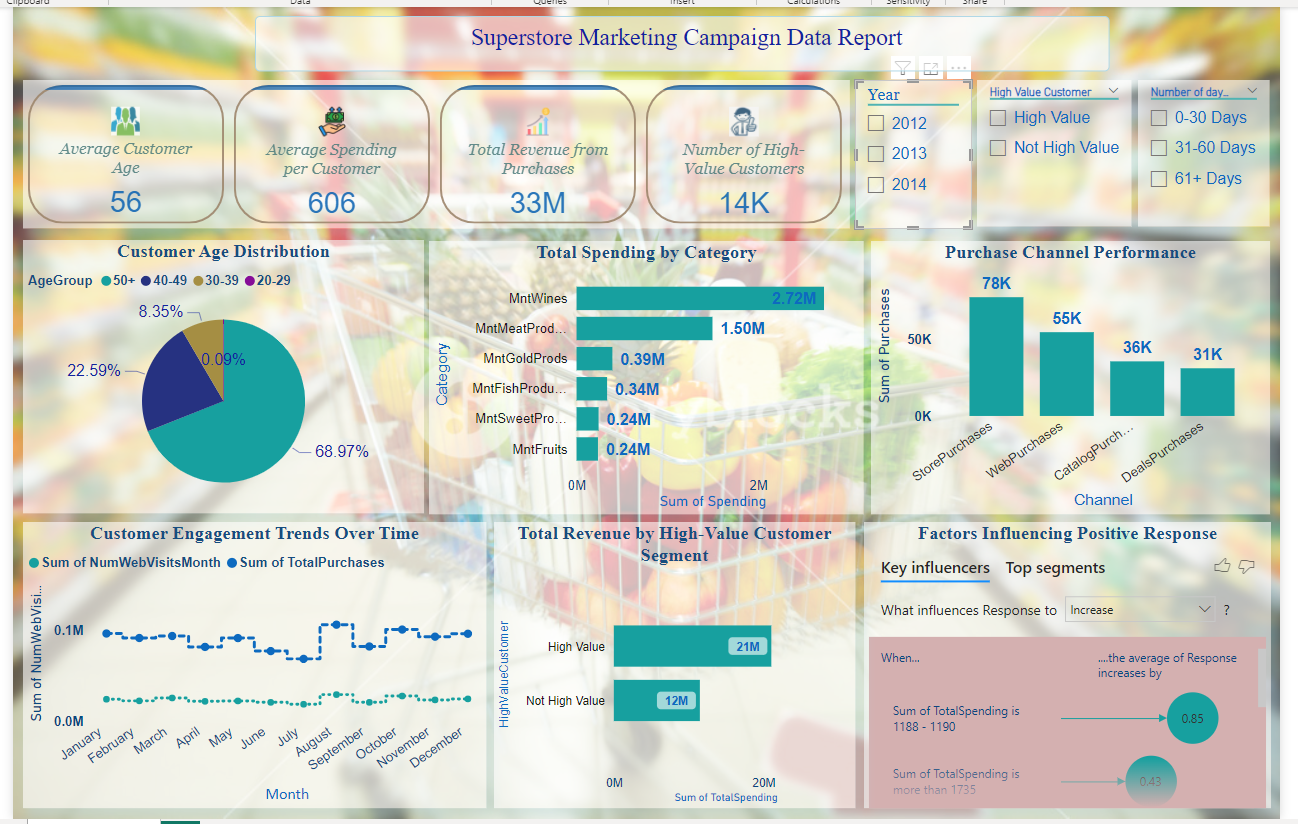

The page's visual inventory and layout, read from the dashboard file:
{"tool":"powerbi","page":{"name":"Super Store Data","canvas":[1280,820],"ordinal":0},"visuals":[{"type":"pieChart","title":"Customer Age Distribution","fields":{"Category":["superstore_data.AgeGroup"],"Y":["CountNonNull(superstore_data.Id)"]},"box":[10.1,235,405,275.7],"z":0},{"type":"barChart","title":"Total Spending by Category","fields":{"Category":["superstore_data.Category"],"Y":["Sum(superstore_data.Spending)"]},"box":[420.1,236.3,439.3,275.7],"z":1000},{"type":"clusteredColumnChart","title":"Purchase Channel Performance","fields":{"Category":["superstore_data.Channel"],"Y":["Sum(superstore_data.Purchases)"]},"box":[866.5,236.3,402.9,275.7],"z":2000},{"type":"lineChart","title":"Customer Engagement Trends Over Time","fields":{"Category":["superstore_data.Dt_Customer.Variation.Date Hierarchy.Month"],"Y":["Sum(superstore_data.NumWebVisitsMonth)","Sum(superstore_data.TotalPurchases)"]},"box":[10.1,520.1,467.6,288.8],"z":3000},{"type":"keyDriversVisual","title":"Factors Influencing Positive Response","fields":{"Target":["superstore_data.Response"],"ExplainBy":["Sum(superstore_data.NumWebVisitsMonth)","Sum(superstore_data.TotalSpending)","Sum(superstore_data.Recency)"]},"box":[859.4,520.1,411,288.8],"z":4000},{"type":"cardVisual","fields":{"Data":["Measure.Average Customer Age","Measure.Average Spending per Customer","Measure.Total Revenue from Purchases","Measure.High-Value Customers"]},"box":[10.1,73.7,835.1,150.5],"z":5000},{"type":"slicer","fields":{"Values":["superstore_data.Year"]},"box":[850.3,73.7,118.2,150.5],"z":6000},{"type":"slicer","fields":{"Values":["superstore_data.HighValueCustomer"]},"box":[973.5,73.7,155.5,148.4],"z":7000},{"type":"slicer","fields":{"Values":["superstore_data.RecencyGroup"]},"box":[1136.1,73.7,133.3,148.4],"z":8000},{"type":"barChart","title":"Total Revenue by High-Value Customer Segment","fields":{"Category":["superstore_data.HighValueCustomer"],"Y":["Sum(superstore_data.TotalSpending)"]},"box":[485.7,520.1,364.6,288.8],"z":9000},{"type":"textbox","box":[244.4,9.1,863.4,55.5],"z":10000}]}

Visuals, with their boxes in screenshot pixels (x1, y1, x2, y2):
"Customer Age Distribution" pieChart: box(20, 247, 422, 520)
"Total Spending by Category" barChart: box(427, 248, 863, 521)
"Purchase Channel Performance" clusteredColumnChart: box(870, 248, 1269, 521)
"Customer Engagement Trends Over Time" lineChart: box(20, 529, 484, 816)
"Factors Influencing Positive Response" keyDriversVisual: box(863, 529, 1270, 816)
cardVisual - Measure.Average Customer Age x Measure.Average Spending per Customer: box(20, 87, 849, 236)
slicer - superstore_data.Year: box(854, 87, 971, 236)
slicer - superstore_data.HighValueCustomer: box(976, 87, 1130, 234)
slicer - superstore_data.RecencyGroup: box(1137, 87, 1269, 234)
"Total Revenue by High-Value Customer Segment" barChart: box(492, 529, 854, 816)
textbox: box(253, 23, 1109, 78)
